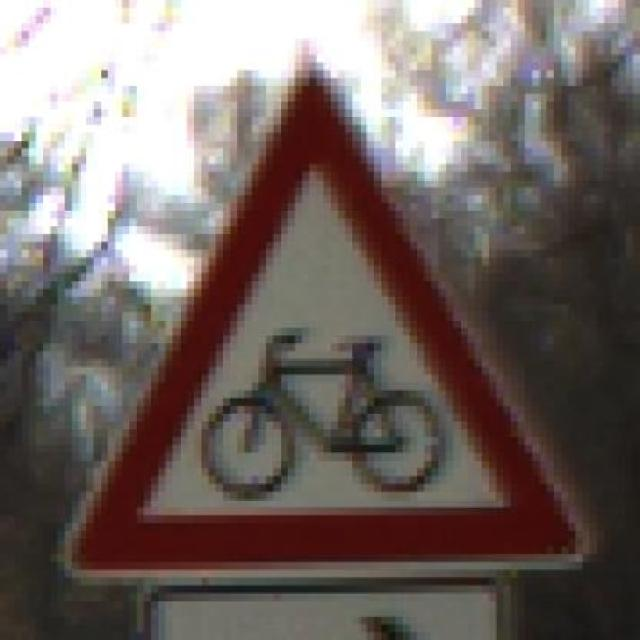CYCLE ROUTE AHEAD WARNING: (50, 54, 604, 586)
